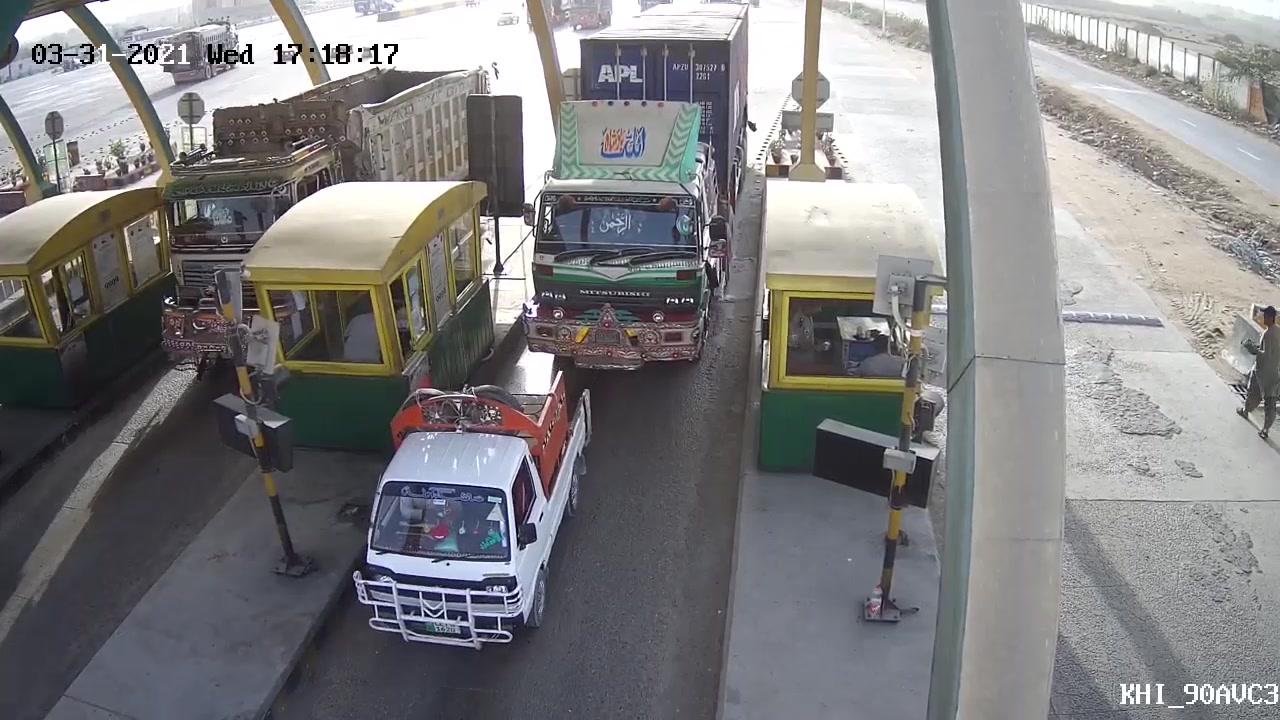F1: (324, 375, 600, 662)
F6: (519, 2, 755, 380)
